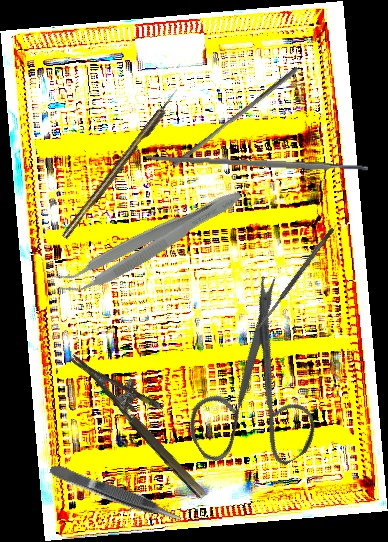Hook Surgical: (60, 87, 183, 240)
Iris Scissors: (138, 270, 363, 500)
Needle Holder: (69, 333, 226, 502)
Pusher: (171, 61, 300, 172)
Scalpel Handle: (145, 153, 369, 174)
Spatula Surgical: (254, 226, 336, 332)
Tissue Forceps: (49, 176, 247, 307), (47, 459, 185, 529)
